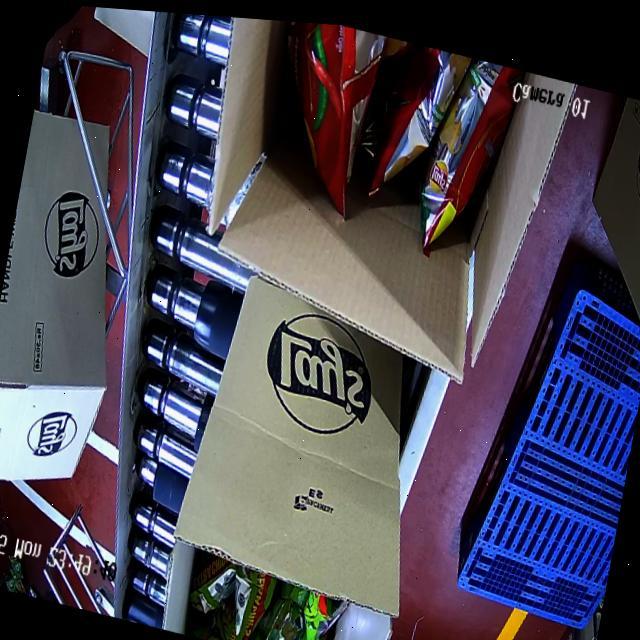MASALA: (252, 19, 521, 271)
YOGURT_HERB: (183, 545, 352, 640)
